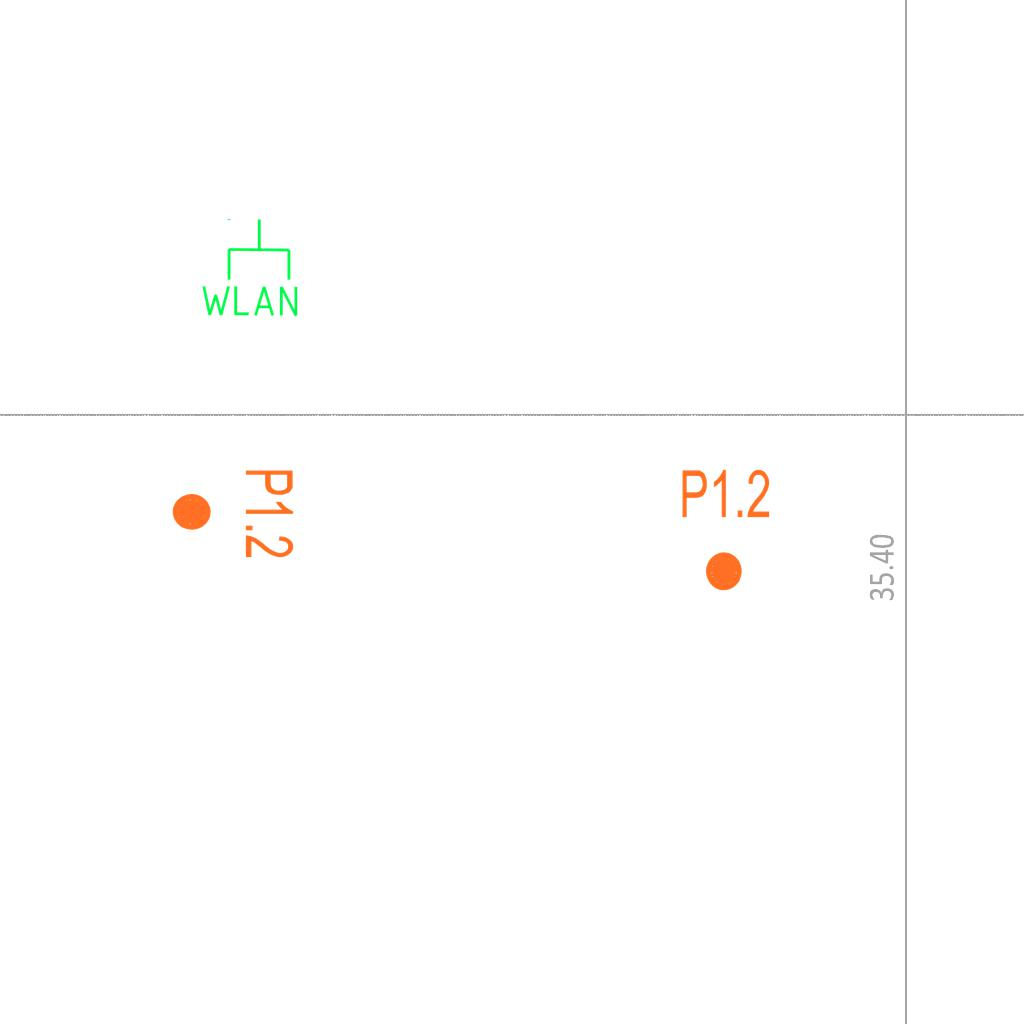Downlight_LED_Einbauleuchten_Flur: (679, 466, 772, 594), (169, 467, 297, 560)
WLAN: (197, 216, 302, 320)
